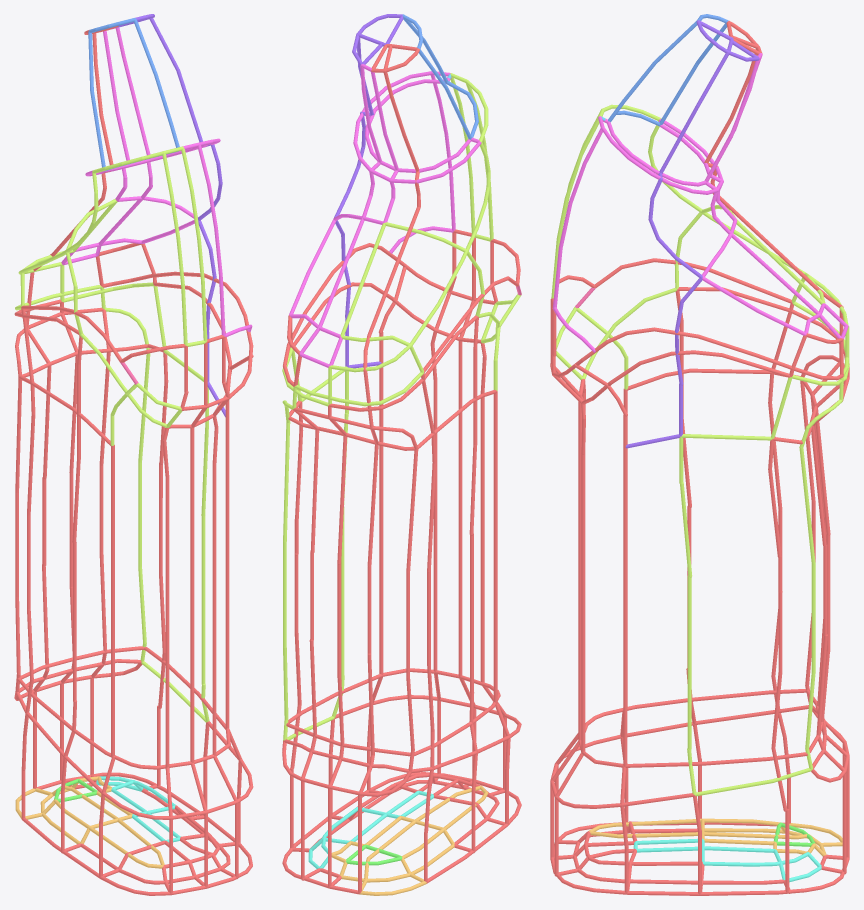
File: flowrep_bottle.gltf
3 views of the same model, side by side, from view 1: azimuth 30°, elevation 25°; view 2: azimuth 150°, elevation 25°; view 3: azimuth 270°, elevation 25° (orthographic). The views are drawn at different scales.
Size of the model in its own units: 0.1757 by 0.9422 by 0.3045.
